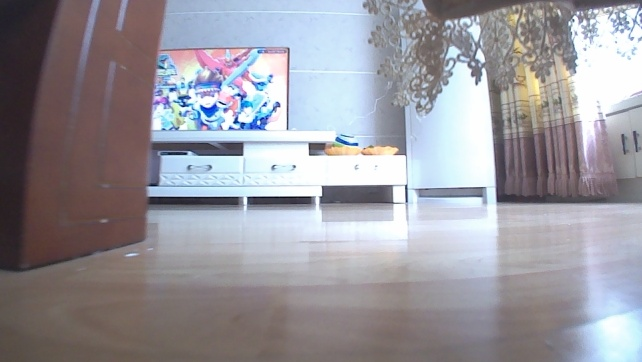TV_stand: (145, 124, 407, 205)
